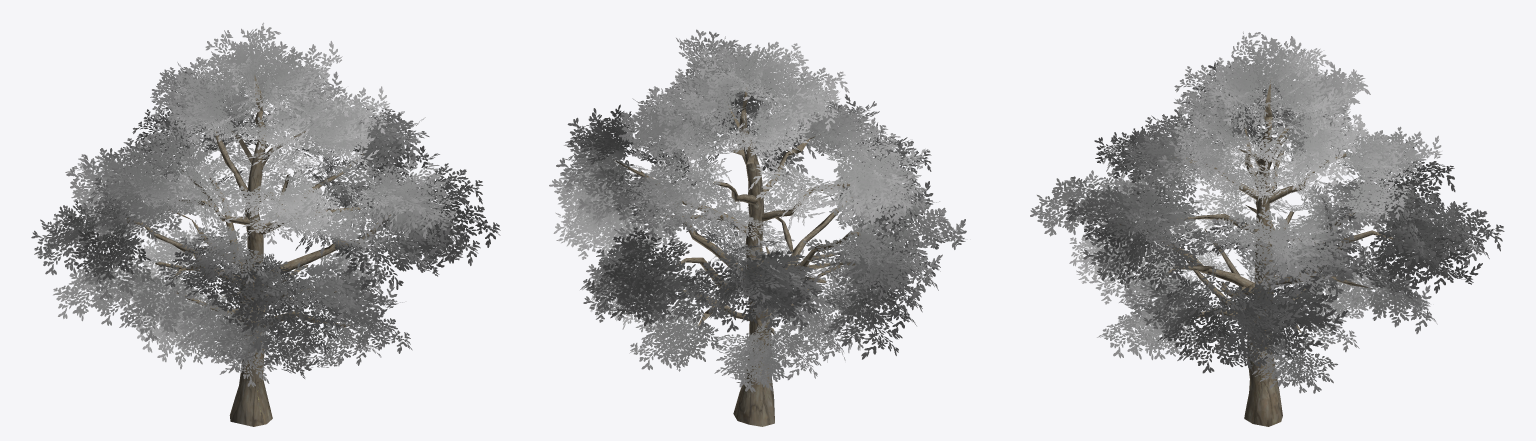
Rendered from SM_Com_Tre_18AL.fbx.
The picture shows the model from 3 angles, left to right: view 1: azimuth 30°, elevation 25°; view 2: azimuth 150°, elevation 25°; view 3: azimuth 270°, elevation 25°; orthographic projection.
Parts seen in each view (by area): view 1: SM_Com_Tre_18AL.mo; view 2: SM_Com_Tre_18AL.mo; view 3: SM_Com_Tre_18AL.mo.
Part boxes in pixels (x1,y1,x2,y2): SM_Com_Tre_18AL.mo: (31, 22, 500, 426); SM_Com_Tre_18AL.mo: (549, 29, 966, 426); SM_Com_Tre_18AL.mo: (1030, 31, 1504, 426).
Size of the model in its own units: 15.03 by 12.9 by 15.52.
